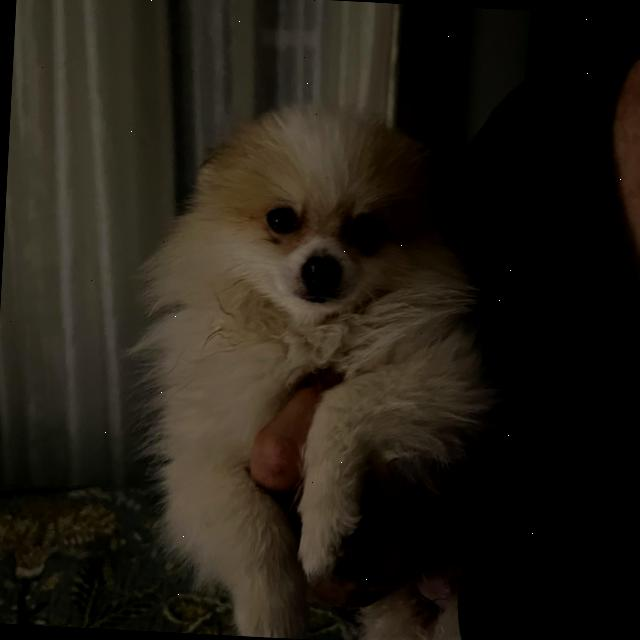pomeranian_dog: (152, 83, 476, 334)
